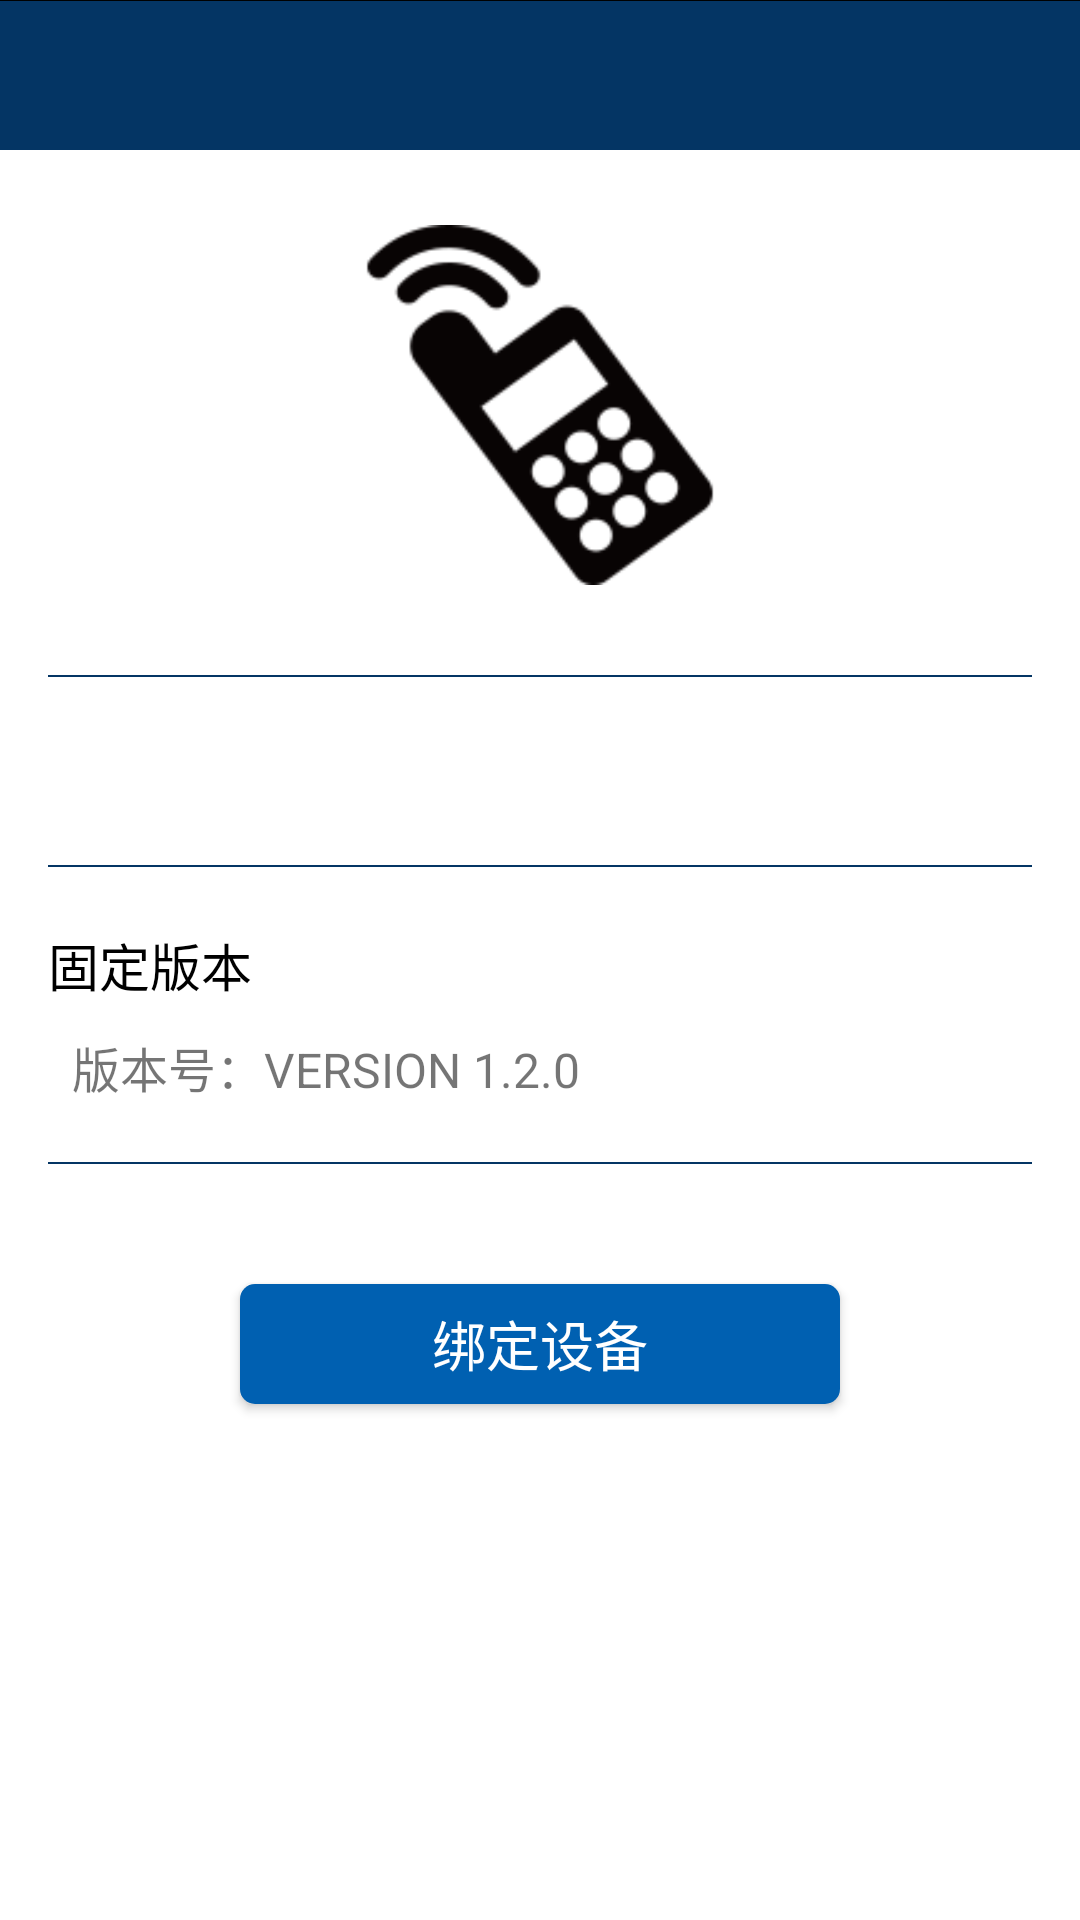

Where icons sit on this 1080 x 1920 app screen, as (x1, y1, x2, y2):
device: (366, 225, 714, 585)
